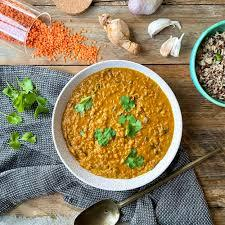Dhal Curry: (57, 60, 172, 183)
